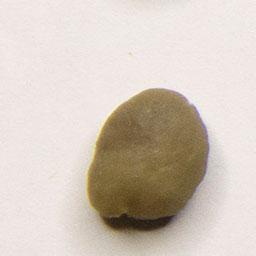peaberry: (83, 83, 215, 228)
